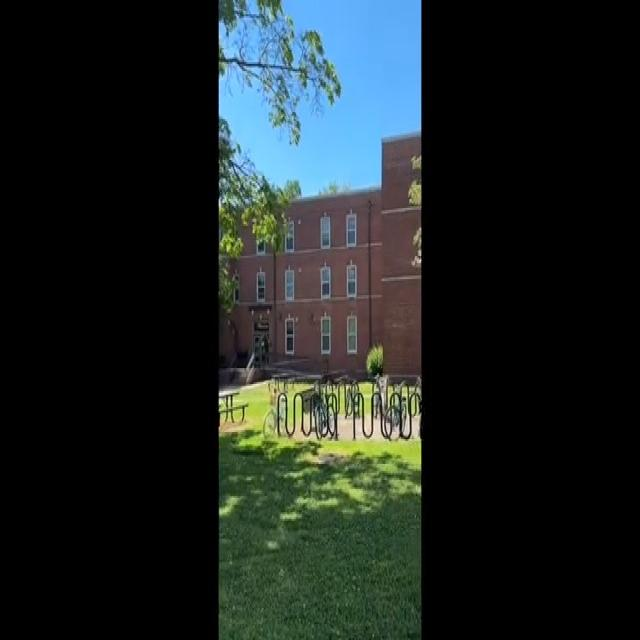drone: (259, 328, 273, 349)
